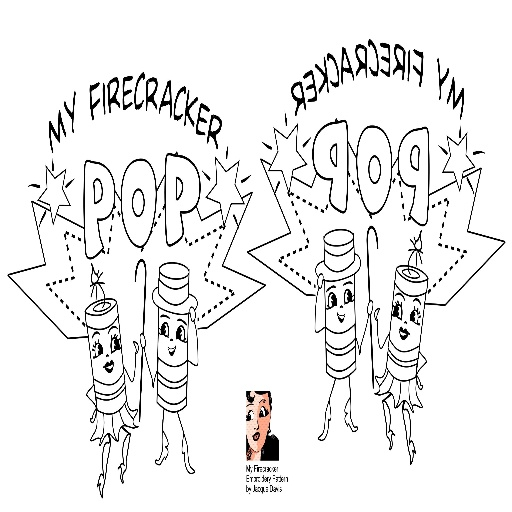hand: (138, 330, 146, 351), (89, 400, 96, 423), (187, 301, 195, 321), (132, 337, 141, 354), (315, 272, 323, 289), (416, 375, 424, 390), (367, 298, 372, 316), (373, 307, 379, 320)
